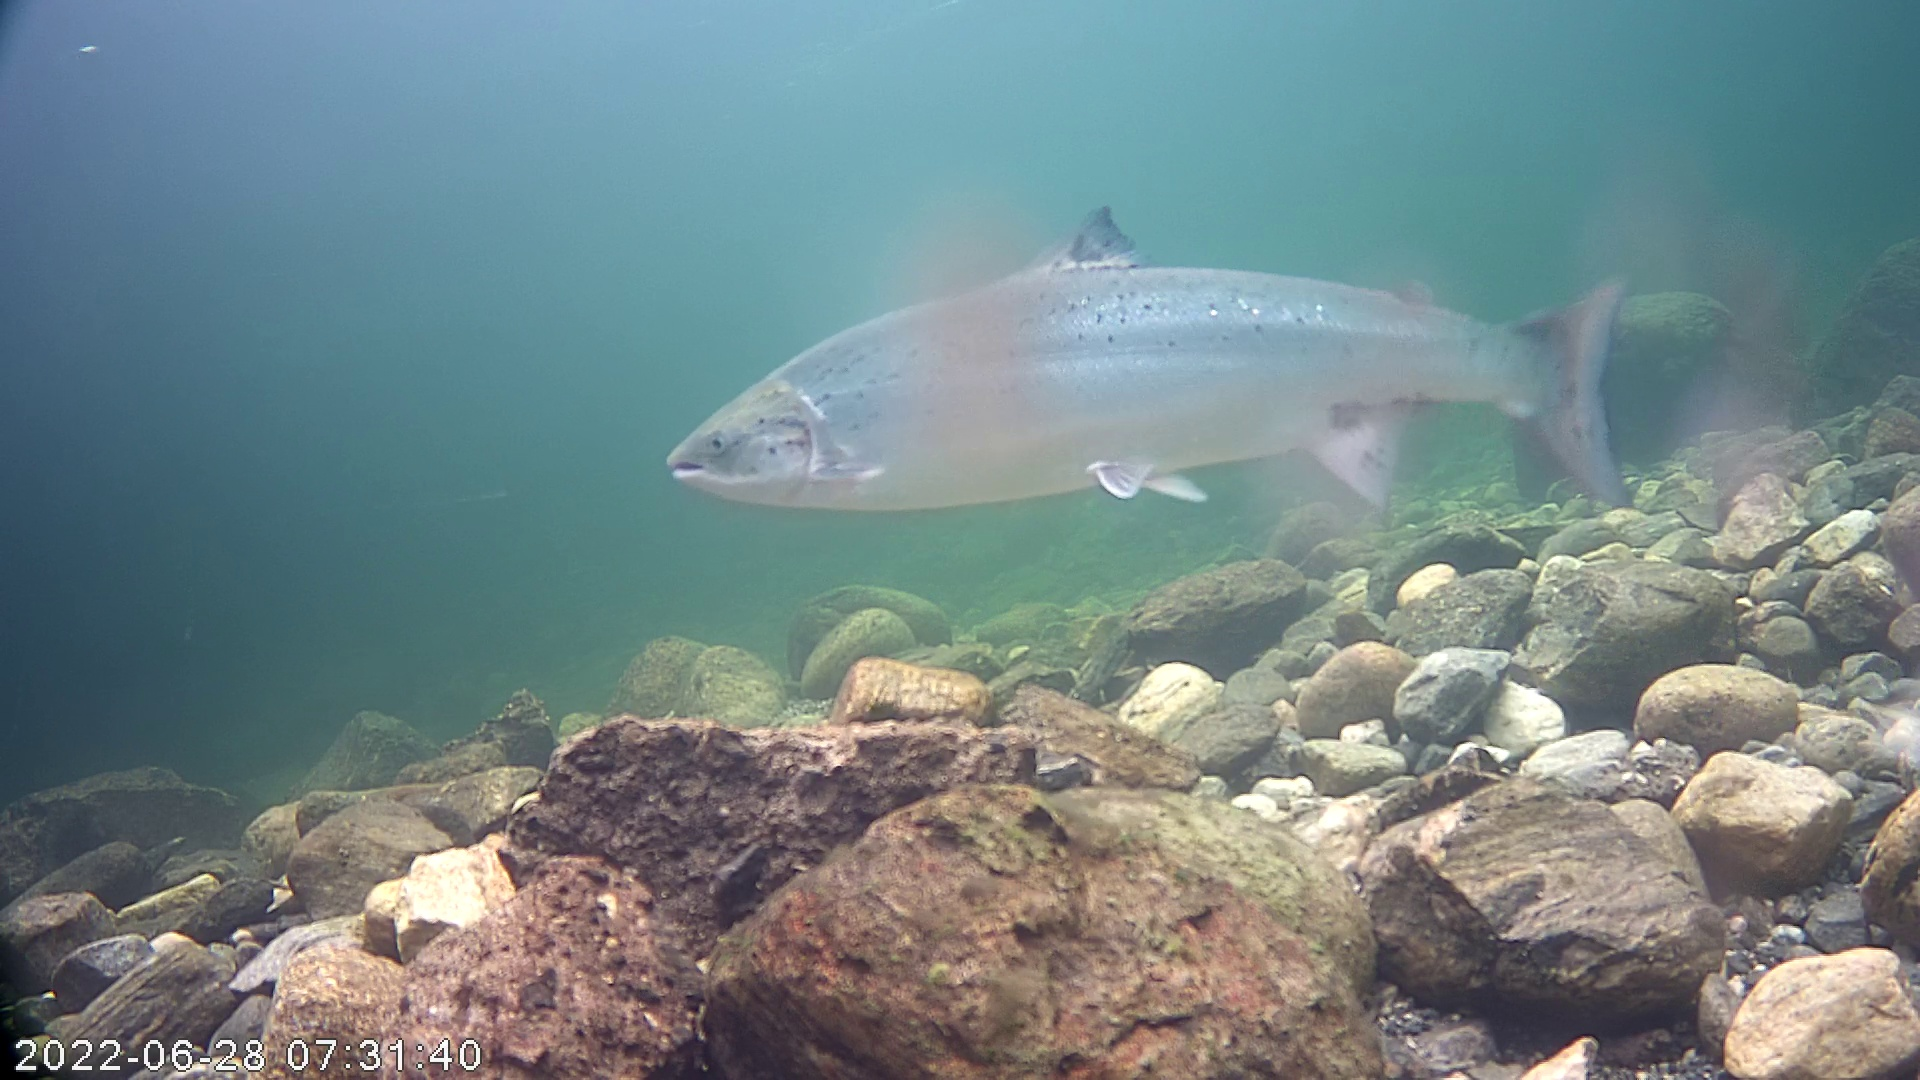salmon: (659, 127, 1671, 560)
